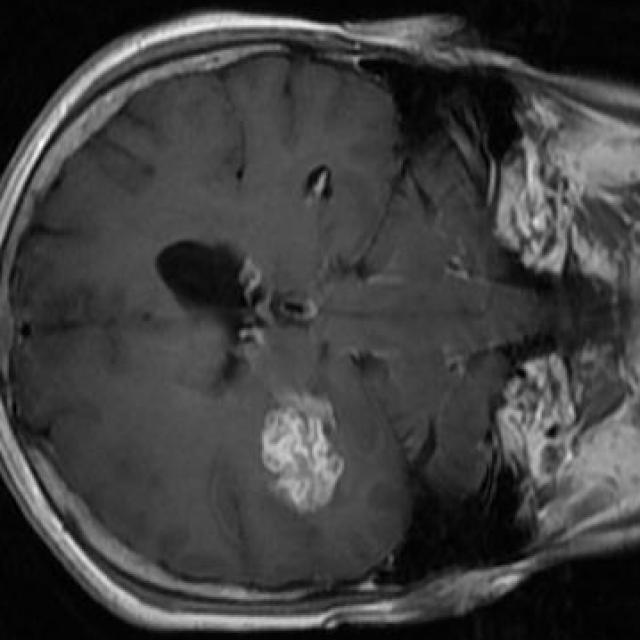glioma: (260, 394, 344, 513)
